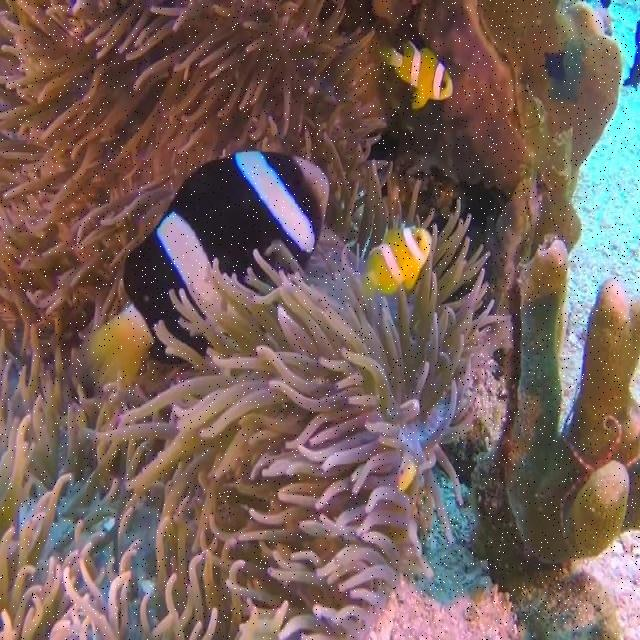fish: (91, 149, 329, 388), (365, 226, 432, 297), (381, 41, 452, 107)
reefs: (0, 0, 510, 639), (505, 245, 639, 563)
sea-floor: (338, 0, 620, 341)
